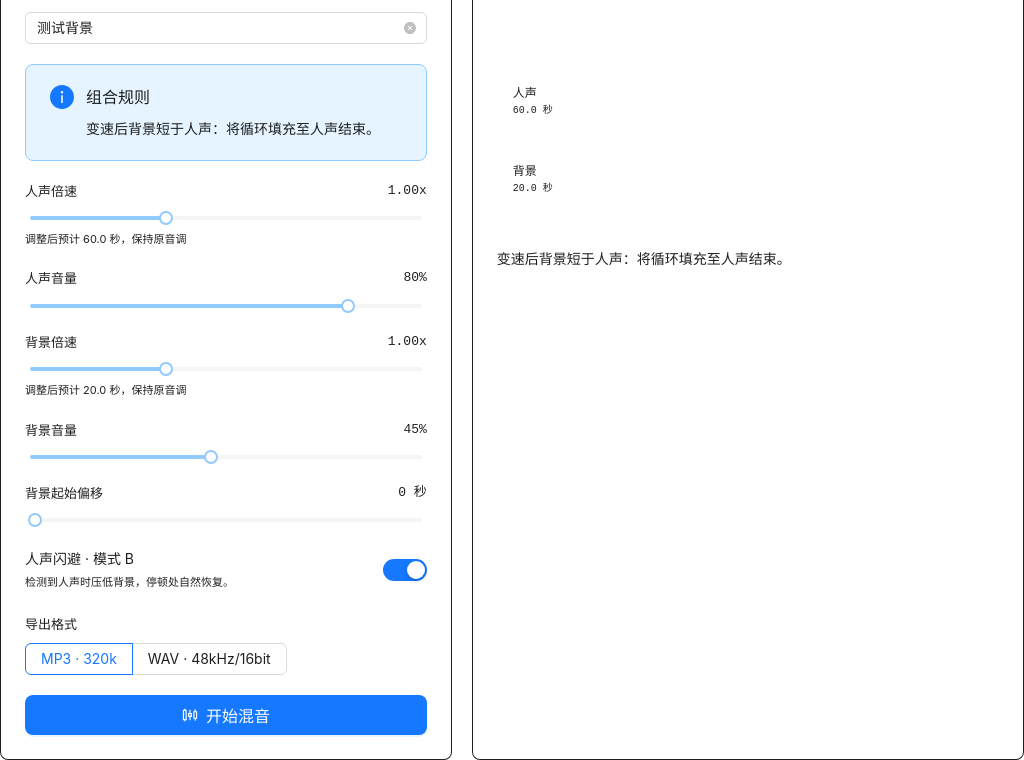
Test: MixdownPage › preselects query tracks, shows loop rule, and submits the complete payload
The width and height of the screenshot is (1024, 760).
(page scrolled)
Expected: the text "变速后背景短于人声：将循环填充至人声结束。" below "组合规则" is shown, [86, 120, 380, 137]
Click the button "开始混音" at {"x": 226, "y": 715}, box [25, 695, 427, 735]
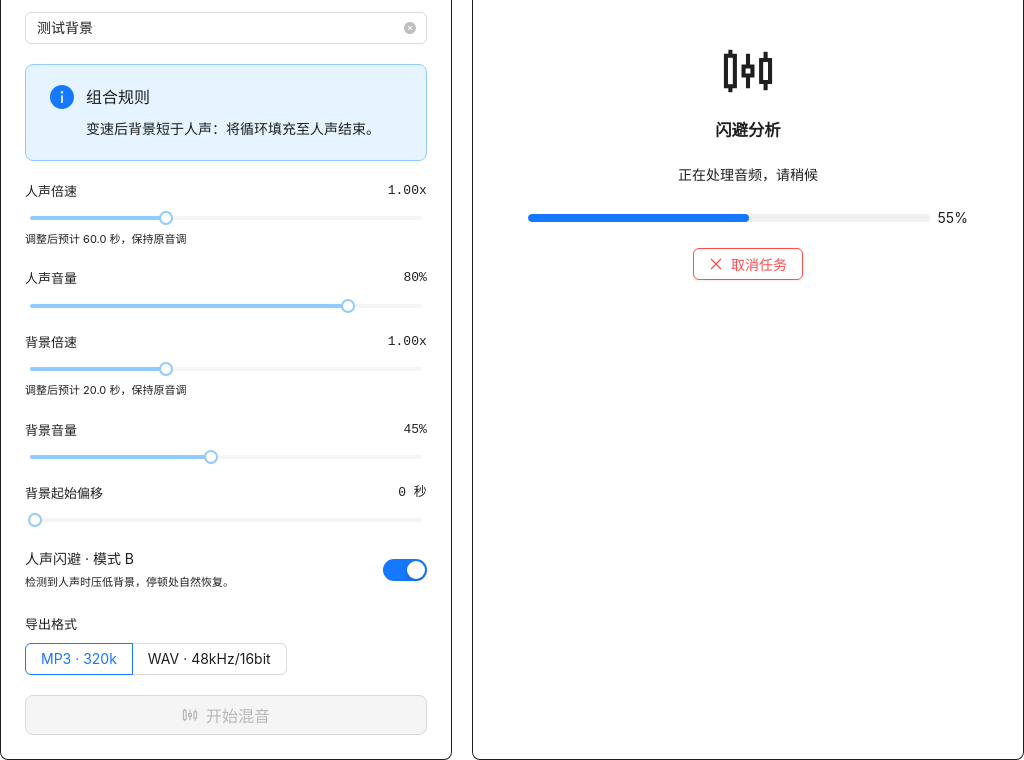
Expected: the heading "闪避分析" is shown, [715, 118, 781, 144]
